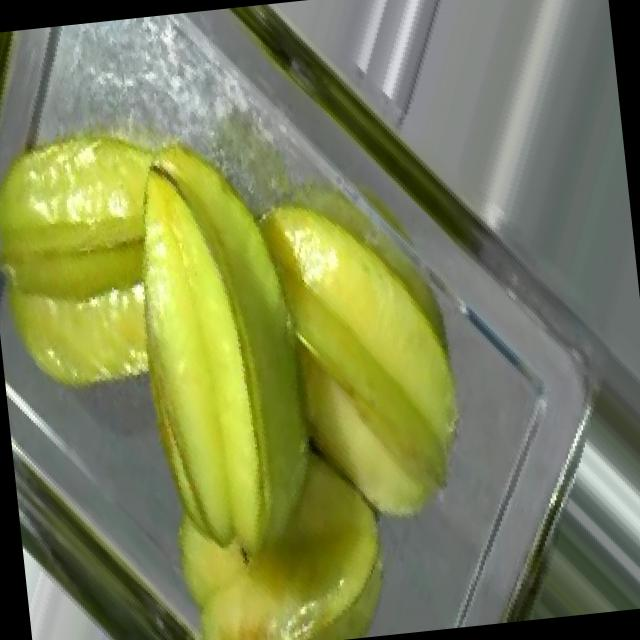fruit: (99, 275, 466, 640), (0, 71, 294, 447)
